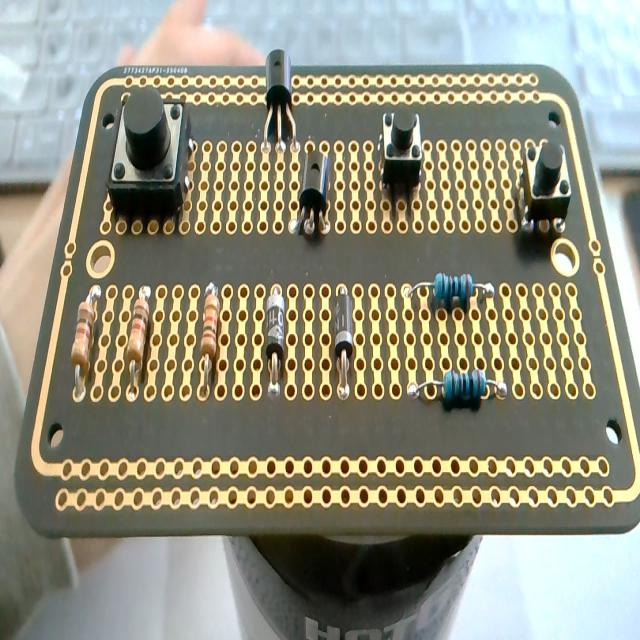diode: (264, 285, 286, 403), (332, 287, 353, 404)
resistor: (410, 368, 506, 409), (404, 273, 494, 313), (70, 284, 101, 399), (126, 284, 151, 394), (199, 282, 221, 396)
switch: (106, 87, 195, 229), (520, 134, 572, 232), (378, 109, 423, 203)
transistor: (263, 48, 295, 154), (297, 142, 330, 236)
